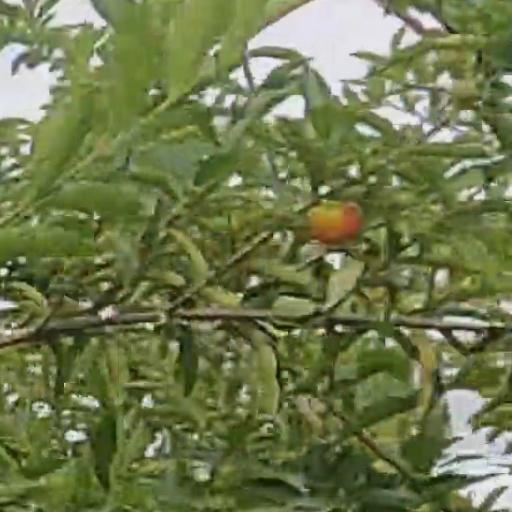acerola: (311, 201, 362, 243)
